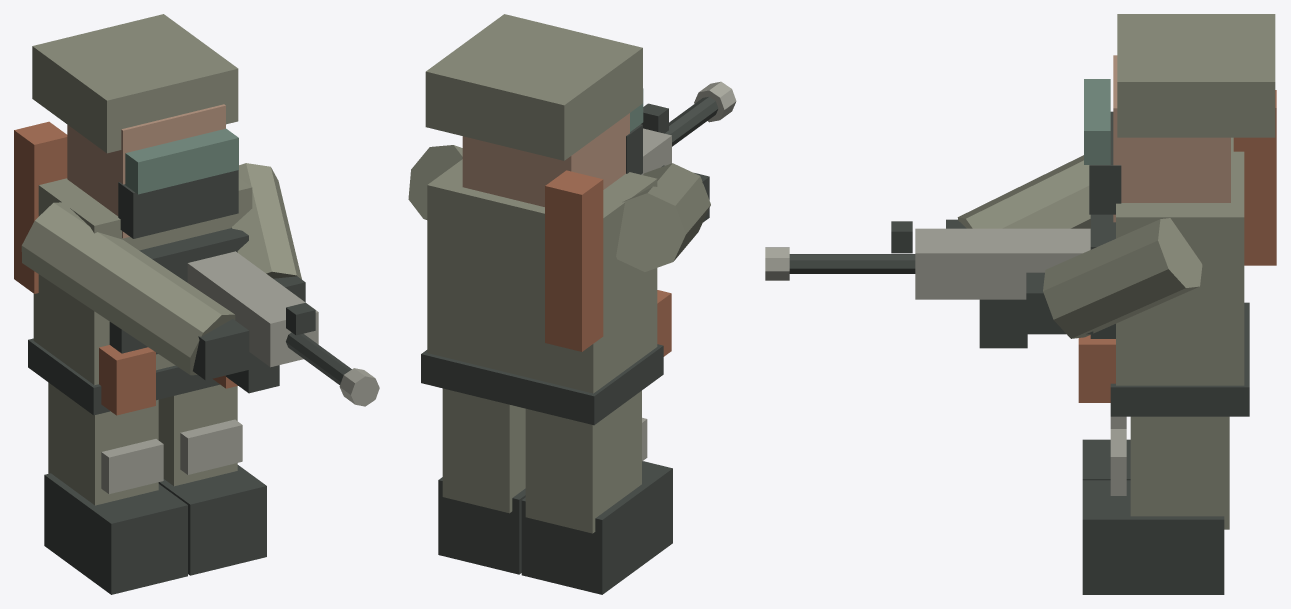
The model's file is raider_scout.glb.
3 renders of one model, left to right at view 1: azimuth 30°, elevation 25°; view 2: azimuth 150°, elevation 25°; view 3: azimuth 270°, elevation 25°, orthographic. The views are drawn at different scales.
Parts seen in each view (by area): view 1: torn hood, left sleeve, heavy boot, layered torso, heavy boot.001, cargo trousers, rifle receiver, head, face wrap, scarf tail, goggles.001, right sleeve (+11 smaller); view 2: layered torso, torn hood, cargo trousers, heavy boot, scarf tail, cargo trousers.001, belt.001, head, left sleeve, heavy boot.001, right sleeve, forward barrel (+5 smaller); view 3: torn hood, layered torso, heavy boot.001, right sleeve, rifle receiver, cargo trousers.001, head, left sleeve, belt.001, scarf tail, forward barrel, rifle magazine (+9 smaller).
Part boxes in pixels (x1=…): torn hood: x1=32, y1=14, x2=238, y2=153; left sleeve: x1=21, y1=202, x2=235, y2=375; heavy boot: x1=44, y1=473, x2=187, y2=594; layered torso: x1=33, y1=178, x2=252, y2=385; heavy boot.001: x1=158, y1=465, x2=266, y2=575; cargo trousers: x1=48, y1=382, x2=158, y2=505; rifle receiver: x1=187, y1=251, x2=318, y2=367; head: x1=67, y1=104, x2=225, y2=238; face wrap: x1=118, y1=170, x2=238, y2=238; scarf tail: x1=14, y1=121, x2=67, y2=293; goggles.001: x1=125, y1=128, x2=238, y2=194; right sleeve: x1=231, y1=163, x2=301, y2=279; layered torso: x1=427, y1=159, x2=657, y2=393; torn hood: x1=425, y1=14, x2=642, y2=160; cargo trousers: x1=525, y1=390, x2=641, y2=533; heavy boot: x1=521, y1=461, x2=672, y2=594; scarf tail: x1=545, y1=170, x2=603, y2=351; cargo trousers.001: x1=442, y1=388, x2=525, y2=513; belt.001: x1=421, y1=344, x2=663, y2=425; head: x1=462, y1=113, x2=629, y2=206; left sleeve: x1=616, y1=163, x2=710, y2=271; heavy boot.001: x1=438, y1=477, x2=525, y2=574; right sleeve: x1=408, y1=145, x2=462, y2=219; forward barrel: x1=665, y1=97, x2=718, y2=146; torn hood: x1=1117, y1=14, x2=1275, y2=137; layered torso: x1=1116, y1=137, x2=1244, y2=385; heavy boot.001: x1=1082, y1=480, x2=1224, y2=594; right sleeve: x1=1043, y1=218, x2=1202, y2=338; rifle receiver: x1=915, y1=228, x2=1090, y2=299; cargo trousers.001: x1=1130, y1=416, x2=1229, y2=529; head: x1=1113, y1=55, x2=1230, y2=222; left sleeve: x1=957, y1=155, x2=1090, y2=228; belt.001: x1=1110, y1=302, x2=1249, y2=416; scarf tail: x1=1233, y1=90, x2=1276, y2=265; forward barrel: x1=789, y1=254, x2=915, y2=273; rifle magazine: x1=979, y1=299, x2=1027, y2=348.
Size of the model in its own units: 1.18 by 2.09 by 1.91.
